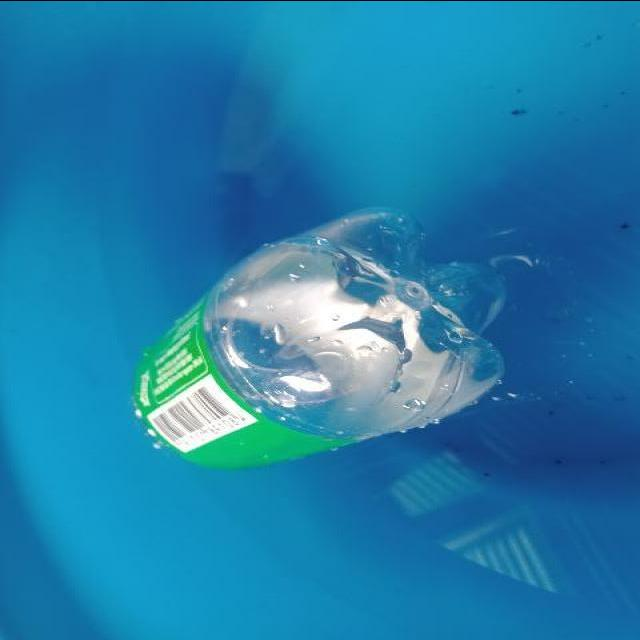Bottle: (117, 194, 519, 483)
